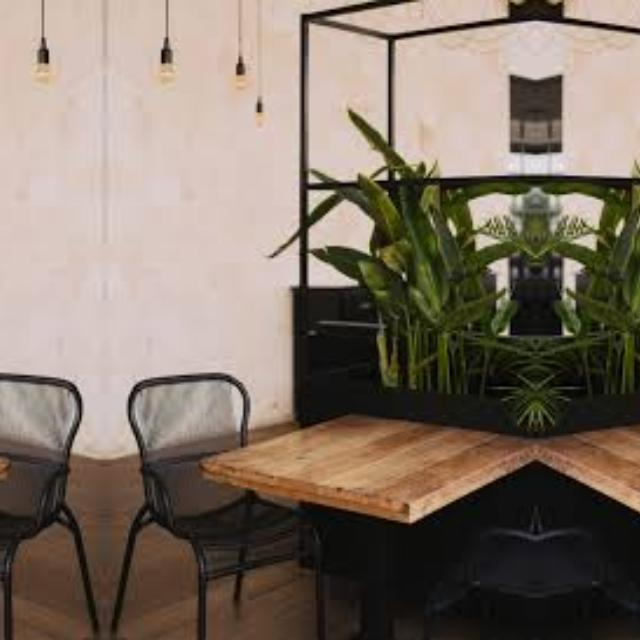obstacle: (120, 332, 330, 640), (0, 332, 87, 639)
